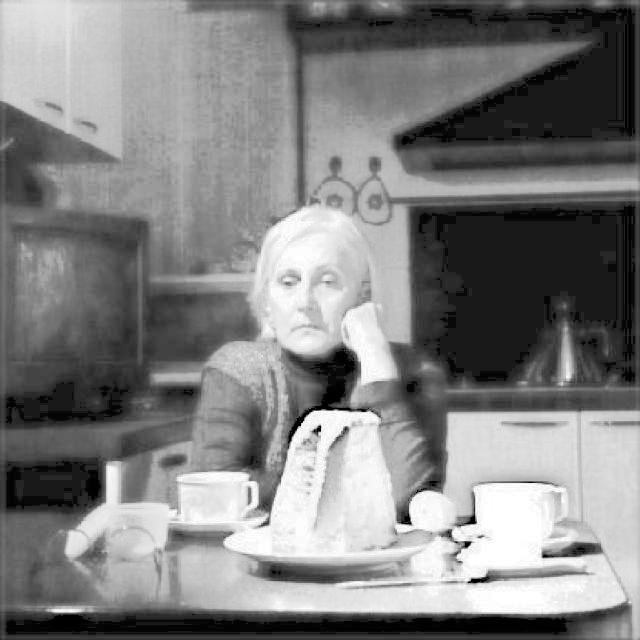Person: (186, 199, 446, 525)
